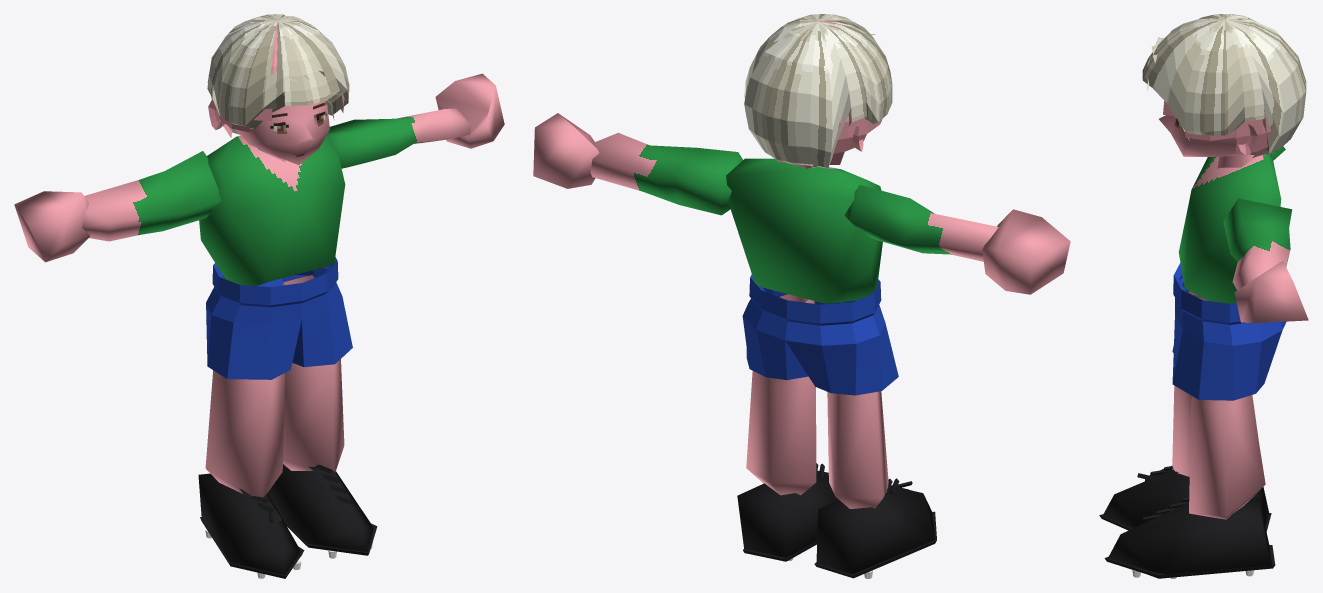
Rendered from 01-liso-repartido_loiro-pintado.glb.
The picture shows the model from 3 angles, left to right: view 1: azimuth 30°, elevation 25°; view 2: azimuth 150°, elevation 25°; view 3: azimuth 270°, elevation 25°; orthographic projection. The views are drawn at different scales.
Parts seen in each view (by area): view 1: Camisa_Tronco, Bermuda, Cabelo, Perna.R, Braco.R, Perna.L, Chuteira.R, Chuteira.L, Braco.L, Mao.R, Cabeca, Mao.L (+3 smaller); view 2: Camisa_Tronco, Cabelo, Bermuda, Perna.L, Braco.L, Chuteira.R, Perna.R, Braco.R, Mao.R, Chuteira.L, Mao.L, Couro_Cabeludo (+1 smaller); view 3: Cabelo, Bermuda, Chuteira.L, Camisa_Tronco, Perna.L, Braco.L, Mao.L, Chuteira.R, Perna.R, Cabeca, Couro_Cabeludo, Chuteira_Sola.L (+4 smaller).
Part boxes in pixels (x1,y1,x2,y2): Camisa_Tronco: (199,135,345,285); Bermuda: (206,257,352,379); Cabelo: (207,14,349,134); Perna.R: (205,370,284,501); Braco.R: (82,151,221,241); Perna.L: (283,274,344,472); Chuteira.R: (198,473,302,574); Chuteira.L: (267,464,373,551); Braco.L: (326,108,471,168); Mao.R: (14,191,89,262); Cabeca: (235,100,329,164); Mao.L: (435,73,504,148); Camisa_Tronco: (726,158,882,303); Cabelo: (744,14,892,168); Bermuda: (742,274,898,395); Perna.L: (746,294,816,495); Braco.L: (590,132,742,215); Chuteira.R: (816,485,934,573); Perna.R: (827,391,888,508); Braco.R: (844,185,998,261); Mao.R: (982,209,1070,294); Chuteira.L: (737,470,838,557); Mao.L: (533,113,599,188); Couro_Cabeludo: (776,20,882,168); Cabelo: (1142,14,1306,155); Bermuda: (1172,263,1286,400); Chuteira.L: (1108,498,1272,578); Camisa_Tronco: (1178,153,1281,303); Perna.L: (1189,395,1265,519); Braco.L: (1223,198,1292,290); Mao.L: (1234,261,1308,323); Chuteira.R: (1103,469,1268,528); Perna.R: (1172,291,1258,476); Cabeca: (1159,115,1250,156); Couro_Cabeludo: (1163,101,1276,157); Chuteira_Sola.L: (1104,545,1275,578).
Size of the model in its own units: 0.4523 by 0.4533 by 0.1617.
Materials: 3 (3 with a texture image).
